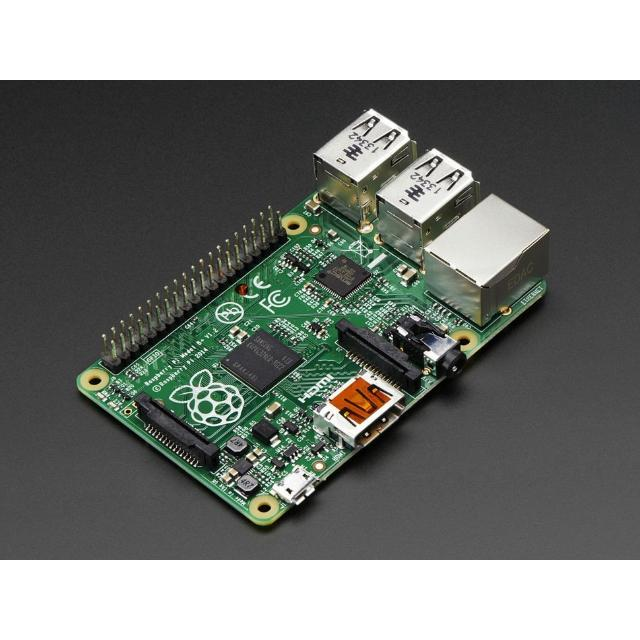Raspberry Pi 1 B-: (77, 110, 549, 527)
